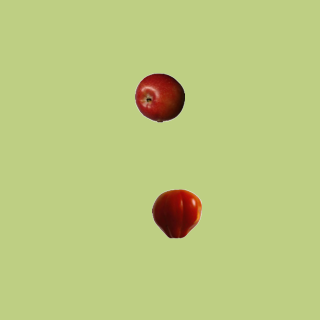Apple Braeburn: (134, 72, 184, 122)
Tomato 1: (151, 188, 201, 238)
